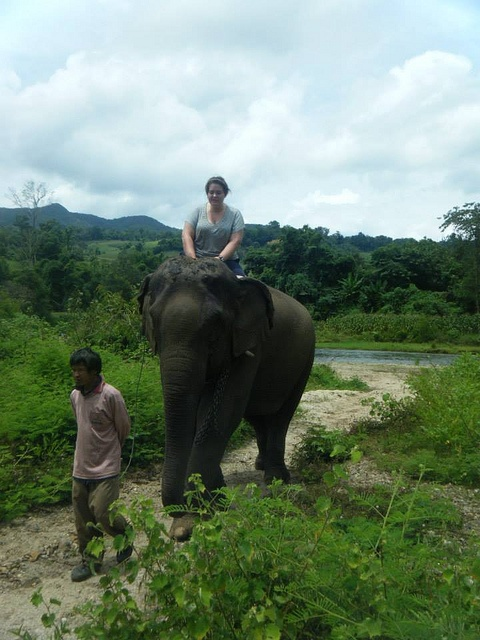elephant: (137, 257, 313, 519)
